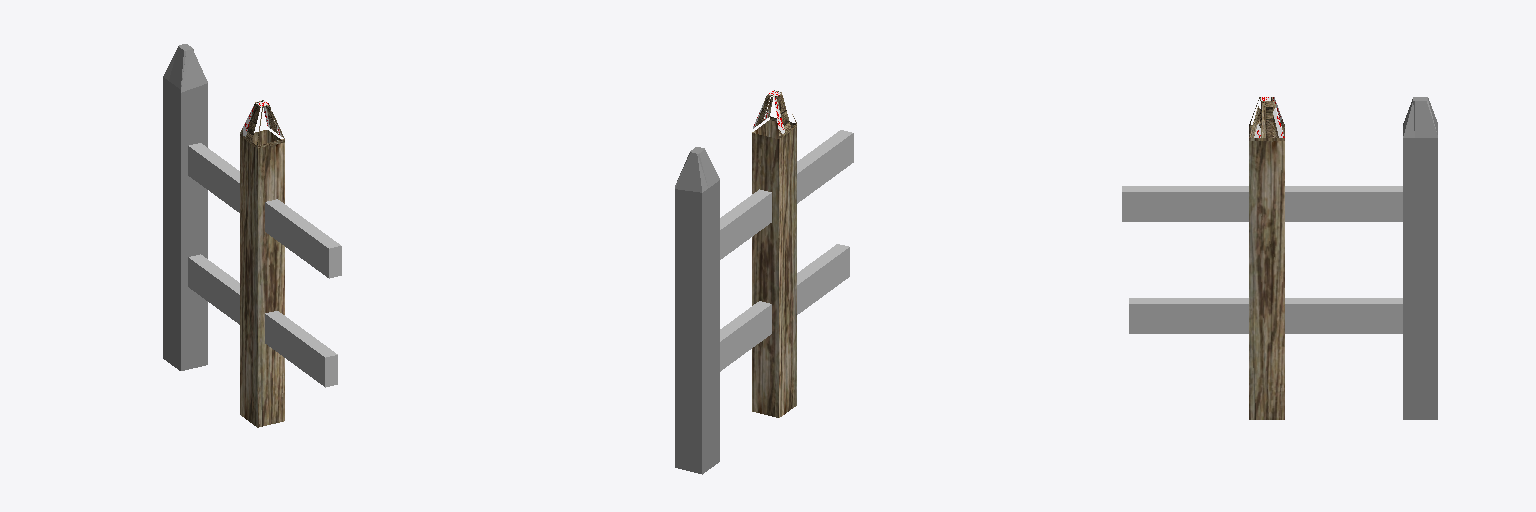
3 renders of one model, left to right at view 1: azimuth 30°, elevation 25°; view 2: azimuth 150°, elevation 25°; view 3: azimuth 270°, elevation 25°, orthographic.
Parts seen in each view (by area): view 1: Cube.001, Cube, Cube.002_Cube.004, Cube.003; view 2: Cube.001, Cube, Cube.002_Cube.004, Cube.003; view 3: Cube, Cube.001, Cube.002_Cube.004, Cube.003.
Boxes of the visible parts, x1=… form: Cube.001: x1=163, y1=44, x2=207, y2=370; Cube: x1=240, y1=100, x2=284, y2=427; Cube.002_Cube.004: x1=188, y1=143, x2=341, y2=278; Cube.003: x1=188, y1=254, x2=337, y2=387; Cube.001: x1=675, y1=147, x2=719, y2=474; Cube: x1=752, y1=90, x2=796, y2=417; Cube.002_Cube.004: x1=720, y1=130, x2=853, y2=259; Cube.003: x1=720, y1=244, x2=849, y2=371; Cube: x1=1249, y1=97, x2=1284, y2=419; Cube.001: x1=1403, y1=97, x2=1437, y2=419; Cube.002_Cube.004: x1=1122, y1=186, x2=1402, y2=221; Cube.003: x1=1129, y1=298, x2=1402, y2=333.
Size of the model in its own units: 0.2062 by 2.26 by 2.06.
3 materials, 1 textured.